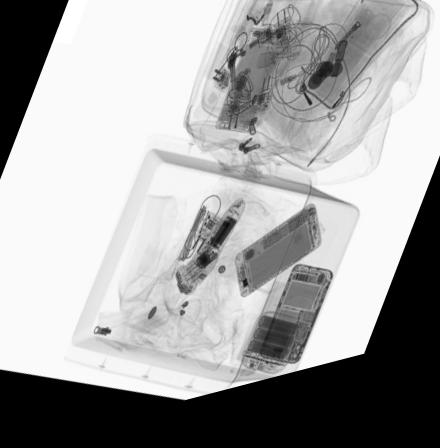Powerbank: (240, 322, 303, 389)
